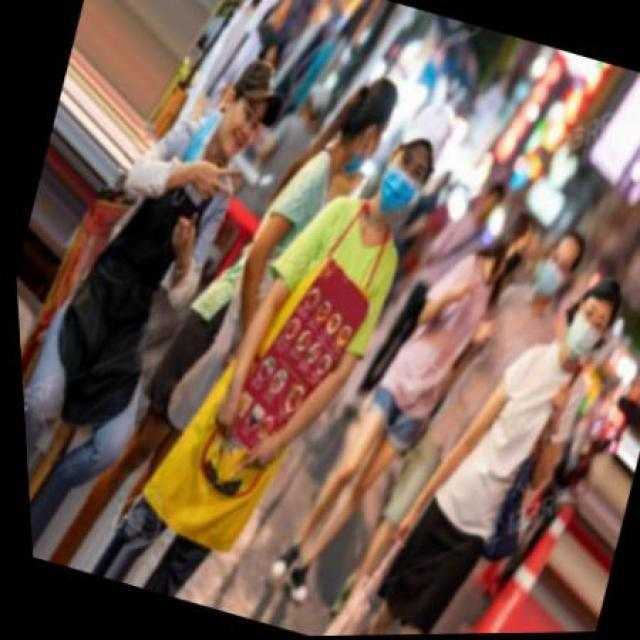hairnet: (182, 85, 269, 172), (334, 111, 388, 182)
